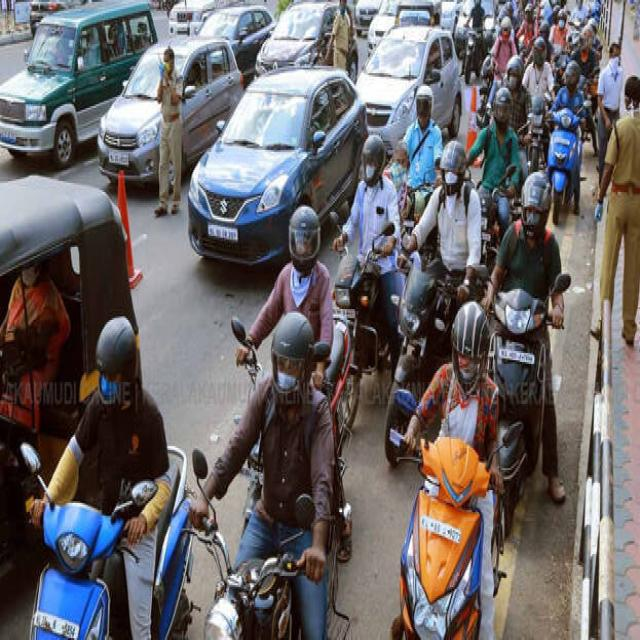autorickshaw: (0, 176, 138, 553)
car: (189, 67, 368, 264), (0, 0, 158, 167), (98, 38, 241, 182), (356, 27, 462, 151), (255, 2, 336, 75), (199, 7, 275, 81)
motorcycle: (20, 316, 192, 640), (190, 311, 334, 639), (391, 300, 505, 637), (385, 140, 481, 464), (482, 171, 566, 531), (334, 133, 402, 426), (548, 60, 584, 224), (526, 65, 533, 70)
